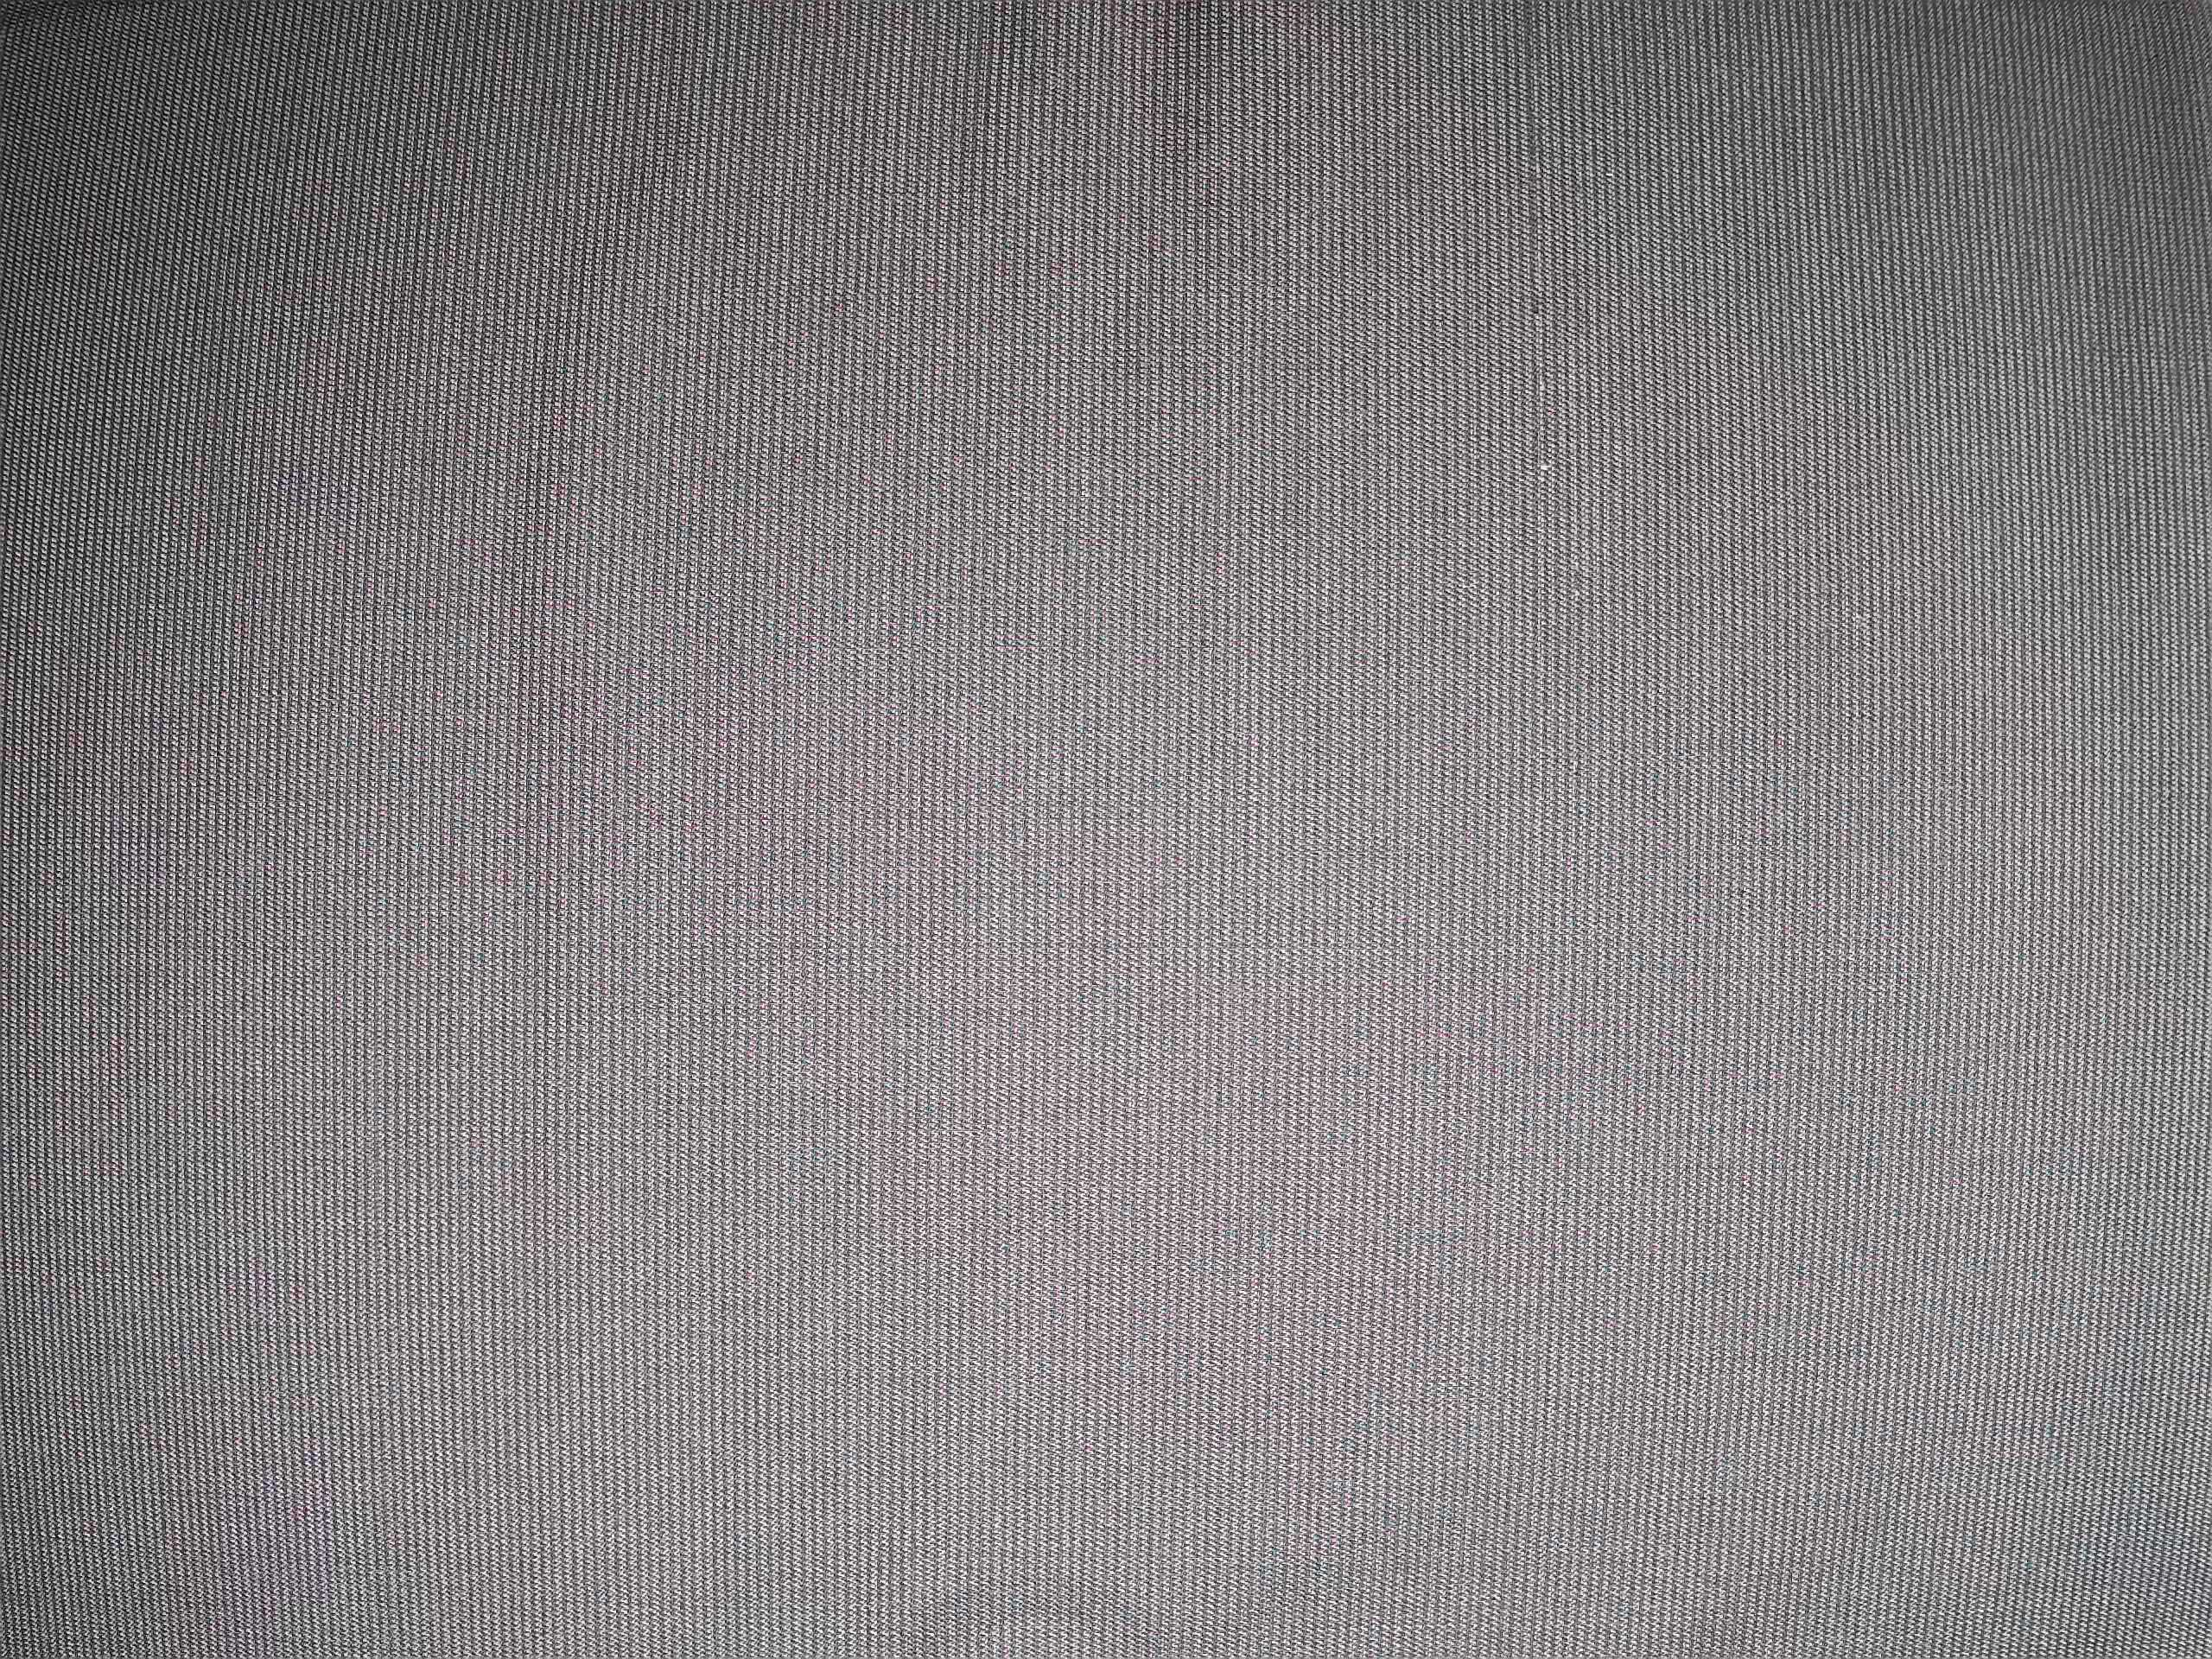hanging-warp: (1514, 5, 1568, 505)
